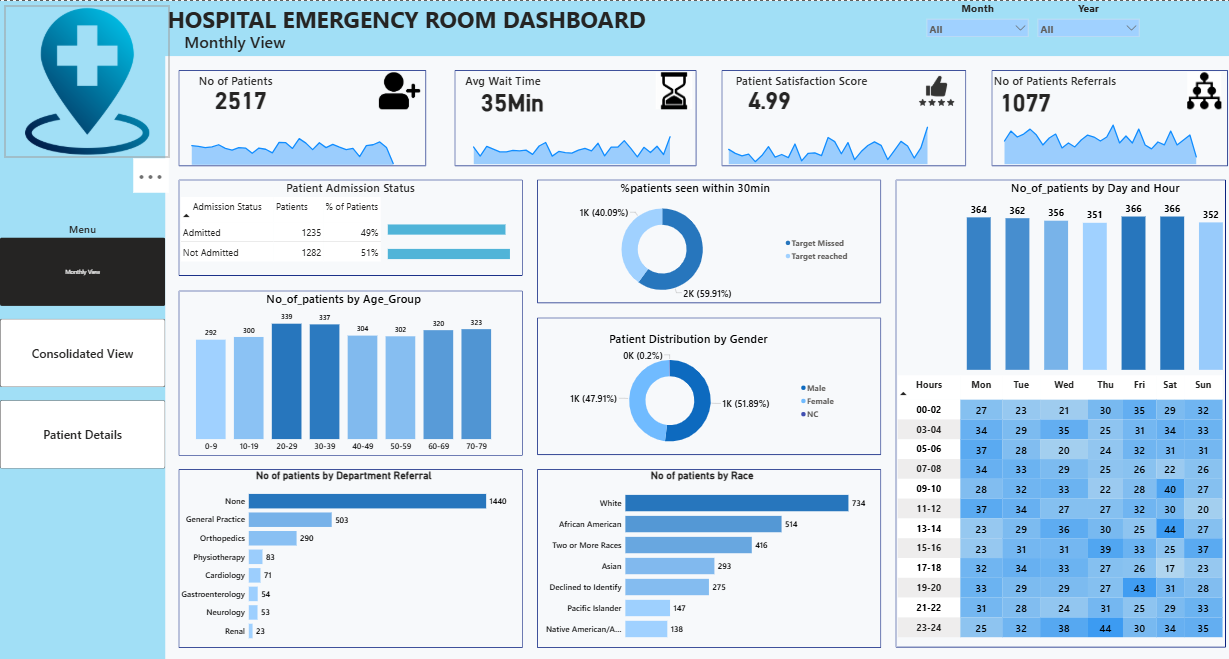

What the dashboard file says about the page in this screenshot:
{"tool":"powerbi","page":{"name":"Monthly View","canvas":[2900,1550],"ordinal":0},"visuals":[{"type":"shape","box":[0,0,384,1536],"z":0},{"type":"shape","box":[416,160,576,224],"z":0,"group":"g5"},{"type":"shape","box":[1056,160,562.6,224],"z":0,"group":"g2"},{"type":"shape","box":[1677.5,160,568.8,224],"z":0,"group":"g3"},{"type":"shape","box":[2304,160,550,224],"z":0,"group":"g4"},{"type":"shape","box":[416,416,800,224],"z":0,"group":"g1"},{"type":"shape","box":[416,672,800,384],"z":0,"group":"g7"},{"type":"shape","box":[416,1088,800,416],"z":0,"group":"g6"},{"type":"shape","box":[1248,1088,800,416],"z":0,"group":"g8"},{"type":"shape","box":[384,0,2624,128],"z":1000},{"type":"textbox","box":[457.1,160,411.4,64],"z":1000,"group":"g5"},{"type":"textbox","box":[1069.4,160,401.9,56],"z":1000,"group":"g2"},{"type":"textbox","box":[1705.6,160,416,64],"z":1000,"group":"g3"},{"type":"textbox","box":[2304,160,392.9,56],"z":1000,"group":"g4"},{"type":"pivotTable","title":"Patient Admission Status","fields":{"Rows":["Hospital ER_Data.Patient Admission Status"],"Values":["dax.No_of_patients1","dax.No_of_patients"]},"box":[416,416,800,196],"z":1000,"group":"g1"},{"type":"clusteredColumnChart","fields":{"Category":["Hospital ER_Data.Age_Group"],"Y":["dax.No_of_patients"]},"box":[416,672,768,384],"z":1000,"group":"g7"},{"type":"clusteredBarChart","title":"No of patients by Department Referral","fields":{"Category":["Hospital ER_Data.Department Referral"],"Y":["dax.No_of_patients"]},"box":[416,1088,768,416],"z":1000,"group":"g6"},{"type":"textbox","box":[384,0,1280,96],"z":2000},{"type":"card","fields":{"Values":["dax.Avg_Wait_time"]},"box":[1069.4,188,241.1,84],"z":2000,"group":"g2"},{"type":"card","fields":{"Values":["dax.Patients_referred"]},"box":[2304,188,157.1,84],"z":2000,"group":"g4"},{"type":"card","fields":{"Values":["dax.No_of_patients"]},"box":[416,192,288,64],"z":2000,"group":"g5"},{"type":"card","fields":{"Values":["dax.Satisfaction_score"]},"box":[1705.6,192,166.4,64],"z":2000,"group":"g3"},{"type":"barChart","fields":{"Y":["dax.No_of_patients"],"Category":["Hospital ER_Data.Patient Admission Status"]},"box":[896,480,320,160],"z":2000,"group":"g1"},{"type":"slicer","title":"Month","fields":{"Values":["Date_table.Month"]},"box":[2144,0,256,128],"z":3000},{"type":"areaChart","fields":{"Category":["Date_table.Date.Variation.Date Hierarchy.Day"],"Y":["Avg(Hospital ER_Data.Patient Waittime)"]},"box":[1069.4,272,562.6,112],"z":3000,"group":"g2"},{"type":"areaChart","fields":{"Category":["Date_table.Date.Variation.Date Hierarchy.Day"],"Y":["Avg(Hospital ER_Data.Patient Satisfaction Score)"]},"box":[1664,272,568.8,112],"z":3000,"group":"g3"},{"type":"areaChart","fields":{"Category":["Date_table.Date.Variation.Date Hierarchy.Day"],"Y":["dax.Patients_referred"]},"box":[2304,272,550,112],"z":3000,"group":"g4"},{"type":"areaChart","fields":{"Y":["dax.No_of_patients"],"Category":["Date_table.Date.Variation.Date Hierarchy.Day"]},"box":[416,288,576,96],"z":3000,"group":"g5"},{"type":"group","id":"g1","title":"Group 1","box":[416,416,800,224],"z":4000},{"type":"group","id":"g2","title":"Group 3","box":[1056,160,576,224],"z":5000},{"type":"group","id":"g3","title":"Group 4","box":[1664,160,576,224],"z":6000},{"type":"group","id":"g4","title":"Group 5","box":[2304,160,544,224],"z":7000},{"type":"group","id":"g5","title":"Group 2","box":[416,160,576,224],"z":8000},{"type":"shape","box":[1248,416,800,288],"z":9000},{"type":"group","id":"g6","title":"Group 6","box":[416,1088,800,416],"z":10000},{"type":"group","id":"g7","title":"Group 7","box":[416,672,800,384],"z":11000},{"type":"shape","box":[1248,736,800,320],"z":12000},{"type":"donutChart","title":"%patients seen within 30min","fields":{"Category":["Hospital ER_Data.Waitime_status"],"Y":["dax.No_of_patients"]},"box":[1248,416,736,288],"z":13000},{"type":"clusteredBarChart","title":"No of patients by Race","fields":{"Y":["dax.No_of_patients"],"Category":["Hospital ER_Data.Patient Race"]},"box":[1248,1088,768,416],"z":14000},{"type":"slicer","title":"Year","fields":{"Values":["Date_table.year"]},"box":[2400,0,256,128],"z":15000},{"type":"donutChart","title":"Patient Distribution by Gender","fields":{"Y":["dax.No_of_patients"],"Category":["Hospital ER_Data.Patient Gender"]},"box":[1248,768,704,288],"z":16000},{"type":"group","id":"g8","title":"Group 6","box":[1248,1088,800,416],"z":17000},{"type":"shape","box":[2080,416,768,1088],"z":18000},{"type":"pivotTable","fields":{"Rows":["Hospital ER_Data.Waitime_Interval"],"Columns":["Date_table.Day_Name"],"Values":["dax.No_of_patients"]},"box":[2080,864,768,640],"z":19000},{"type":"columnChart","title":"No_of_patients by Day and Hour","fields":{"Category":["Date_table.Day_Name"],"Y":["dax.No_of_patients"]},"box":[2240,416,608,448],"z":20000},{"type":"image","box":[864,160,128,96],"z":21000},{"type":"image","box":[2112,160,128,96],"z":22000},{"type":"image","box":[1504,160,128,96],"z":23000},{"type":"image","box":[2752,160,96,96],"z":24000},{"type":"pageNavigator","title":"Menu","box":[0,512,384,576],"z":25000},{"type":"image","box":[10,10,384,352],"z":26000},{"type":"textbox","box":[384,64,416,64],"z":26001}]}

Visuals, with their boxes on the page's 2900x1550 design canvas (x1, y1, x2, y2). These are canvas units, not pixel positions in the 1229x659 screenshot, which may show the page scaled, cropped or inside an application window:
shape: l=0, t=0, r=384, b=1536
shape: l=416, t=160, r=992, b=384
shape: l=1056, t=160, r=1619, b=384
shape: l=1678, t=160, r=2246, b=384
shape: l=2304, t=160, r=2854, b=384
shape: l=416, t=416, r=1216, b=640
shape: l=416, t=672, r=1216, b=1056
shape: l=416, t=1088, r=1216, b=1504
shape: l=1248, t=1088, r=2048, b=1504
shape: l=384, t=0, r=3008, b=128
textbox: l=457, t=160, r=868, b=224
textbox: l=1069, t=160, r=1471, b=216
textbox: l=1706, t=160, r=2122, b=224
textbox: l=2304, t=160, r=2697, b=216
"Patient Admission Status" pivotTable: l=416, t=416, r=1216, b=612
clusteredColumnChart - Hospital ER_Data.Age_Group x dax.No_of_patients: l=416, t=672, r=1184, b=1056
"No of patients by Department Referral" clusteredBarChart: l=416, t=1088, r=1184, b=1504
textbox: l=384, t=0, r=1664, b=96
card - dax.Avg_Wait_time: l=1069, t=188, r=1310, b=272
card - dax.Patients_referred: l=2304, t=188, r=2461, b=272
card - dax.No_of_patients: l=416, t=192, r=704, b=256
card - dax.Satisfaction_score: l=1706, t=192, r=1872, b=256
barChart - dax.No_of_patients x Hospital ER_Data.Patient Admission Status: l=896, t=480, r=1216, b=640
"Month" slicer: l=2144, t=0, r=2400, b=128
areaChart - Date_table.Date.Variation.Date Hierarchy.Day x Avg(Hospital ER_Data.Patient Waittime): l=1069, t=272, r=1632, b=384
areaChart - Date_table.Date.Variation.Date Hierarchy.Day x Avg(Hospital ER_Data.Patient Satisfaction Score): l=1664, t=272, r=2233, b=384
areaChart - Date_table.Date.Variation.Date Hierarchy.Day x dax.Patients_referred: l=2304, t=272, r=2854, b=384
areaChart - dax.No_of_patients x Date_table.Date.Variation.Date Hierarchy.Day: l=416, t=288, r=992, b=384
"Group 1" group: l=416, t=416, r=1216, b=640
"Group 3" group: l=1056, t=160, r=1632, b=384
"Group 4" group: l=1664, t=160, r=2240, b=384
"Group 5" group: l=2304, t=160, r=2848, b=384
"Group 2" group: l=416, t=160, r=992, b=384
shape: l=1248, t=416, r=2048, b=704
"Group 6" group: l=416, t=1088, r=1216, b=1504
"Group 7" group: l=416, t=672, r=1216, b=1056
shape: l=1248, t=736, r=2048, b=1056
"%patients seen within 30min" donutChart: l=1248, t=416, r=1984, b=704
"No of patients by Race" clusteredBarChart: l=1248, t=1088, r=2016, b=1504
"Year" slicer: l=2400, t=0, r=2656, b=128
"Patient Distribution by Gender" donutChart: l=1248, t=768, r=1952, b=1056
"Group 6" group: l=1248, t=1088, r=2048, b=1504
shape: l=2080, t=416, r=2848, b=1504
pivotTable - Hospital ER_Data.Waitime_Interval x Date_table.Day_Name: l=2080, t=864, r=2848, b=1504
"No_of_patients by Day and Hour" columnChart: l=2240, t=416, r=2848, b=864
image: l=864, t=160, r=992, b=256
image: l=2112, t=160, r=2240, b=256
image: l=1504, t=160, r=1632, b=256
image: l=2752, t=160, r=2848, b=256
"Menu" pageNavigator: l=0, t=512, r=384, b=1088
image: l=10, t=10, r=394, b=362
textbox: l=384, t=64, r=800, b=128
